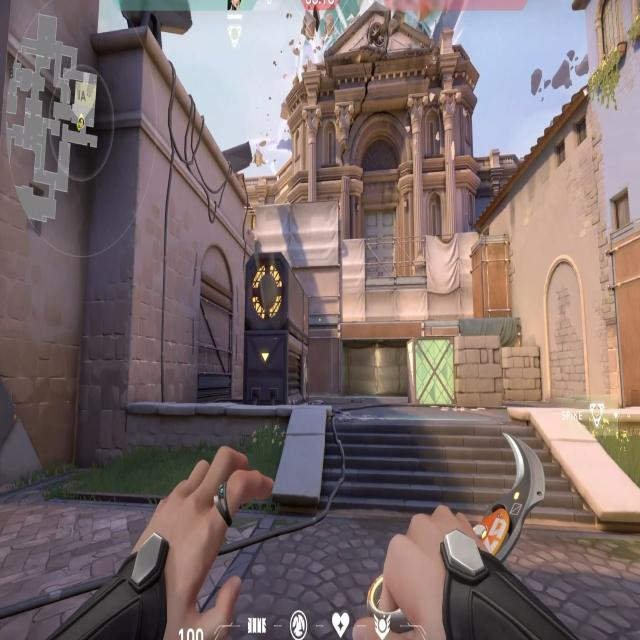A_Heaven_Box: (466, 228, 514, 321)
A_Heaven_Wall: (251, 195, 351, 319)
A_Hell: (331, 313, 428, 403)
A_Site_Box: (403, 330, 508, 420)
